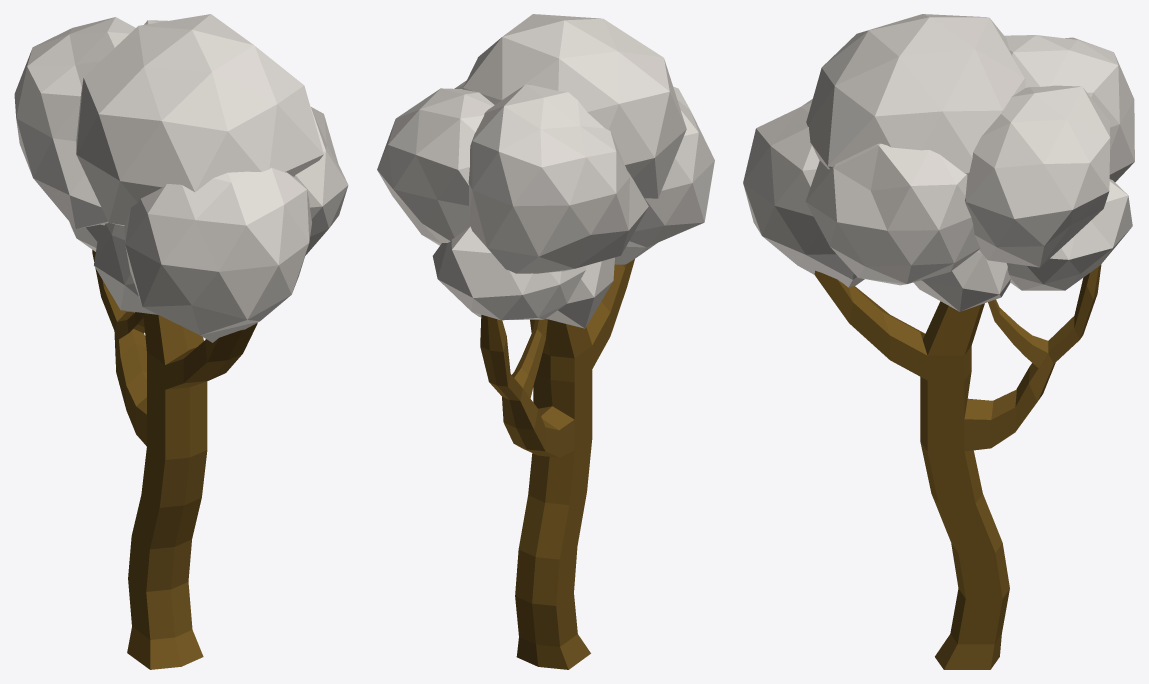
File: tree_3.fbx
3 renders of one model, left to right at view 1: azimuth 30°, elevation 25°; view 2: azimuth 150°, elevation 25°; view 3: azimuth 270°, elevation 25°, orthographic. The views are drawn at different scales.
Visible parts, largest first — view 1: Icosphere.058; view 2: Icosphere.058; view 3: Icosphere.058.
Part boxes in pixels (x1=…): Icosphere.058: x1=14, y1=14, x2=348, y2=669; Icosphere.058: x1=377, y1=14, x2=714, y2=669; Icosphere.058: x1=743, y1=14, x2=1134, y2=669.
Bounding box in the file's own units: 1340 × 3197 × 1765.
